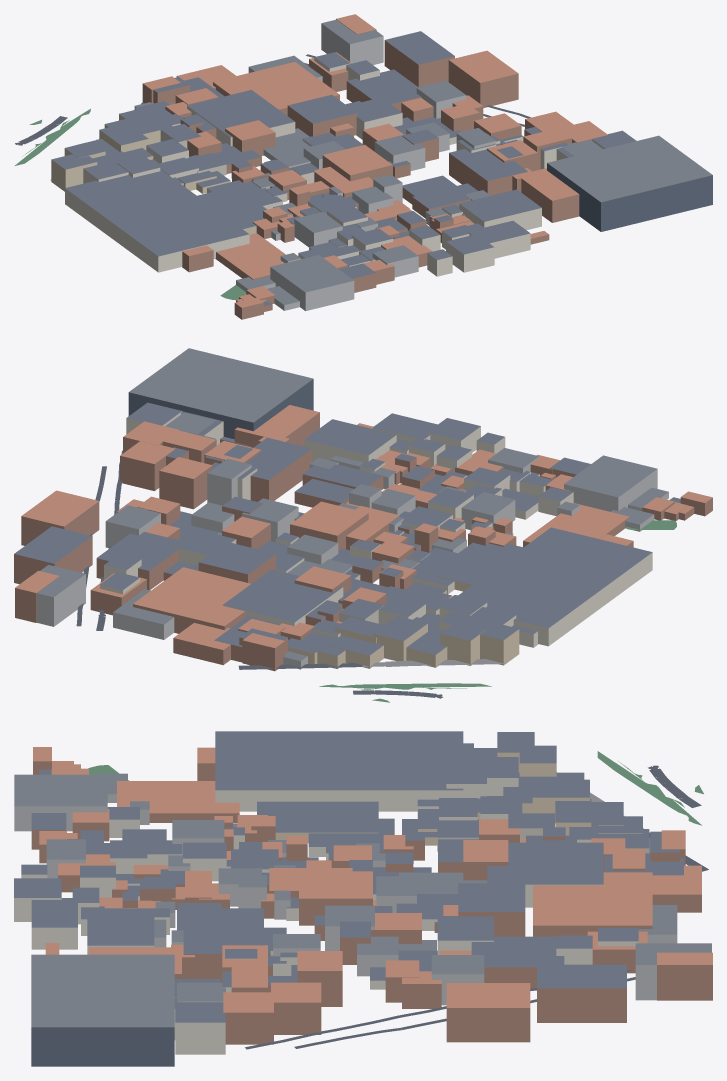
Rendered from tile_5_3_lod1.glb.
The picture shows the model from 3 angles, top to bottom: view 1: azimuth 30°, elevation 25°; view 2: azimuth 150°, elevation 25°; view 3: azimuth 270°, elevation 25°; orthographic projection. The views are drawn at different scales.
Visible parts, largest first — view 1: TileRoot; view 2: TileRoot; view 3: TileRoot.
Boxes of the visible parts, x1,y1,x2,y2 form: TileRoot: [15, 14, 712, 319]; TileRoot: [14, 348, 712, 702]; TileRoot: [14, 731, 712, 1066].
Size of the model in its own units: 444 by 26.74 by 417.
